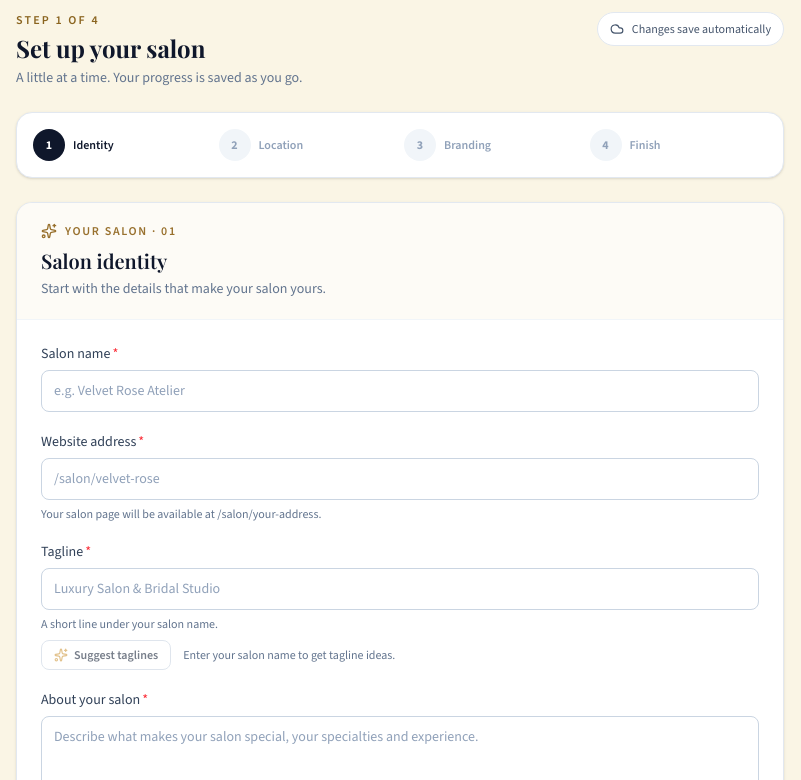
Test: salon onboarding wizard › requests tagline ideas using the live salon name and applies a selected option
Expected: the heading "Salon identity" is shown, [41,247,167,274]
In the field labelled "Salon name": (400, 391) [41,370,759,412], type "Bright Jaipur"
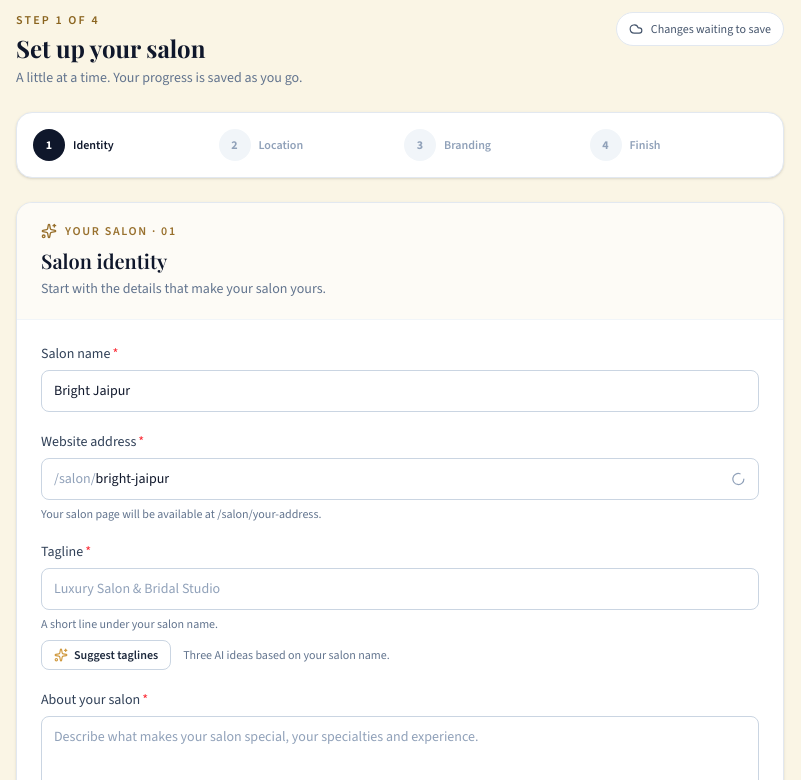
Click the button "Suggest taglines": (106, 655) [41,640,171,670]
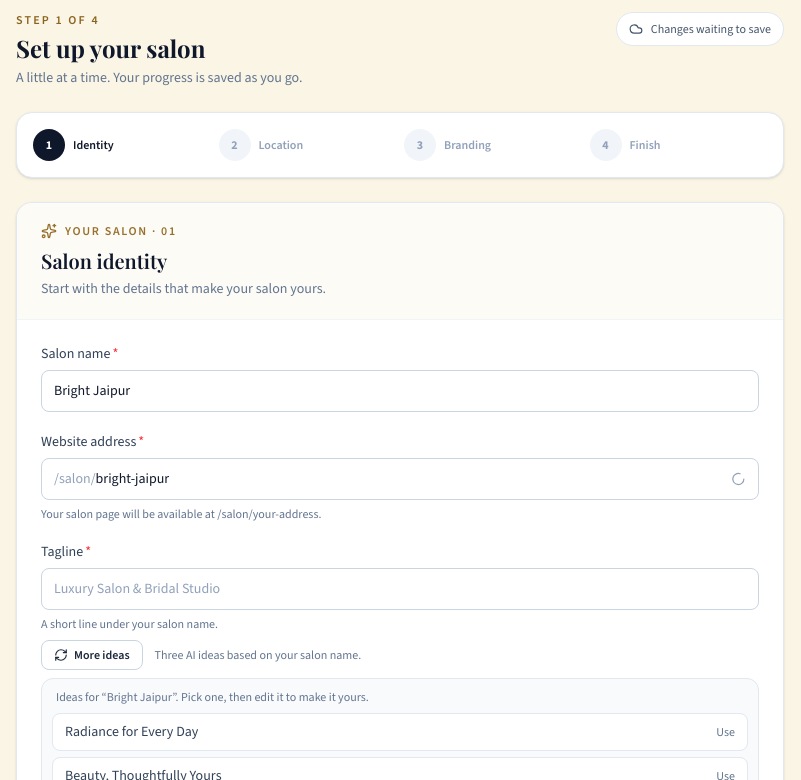
Click the button "Radiance for Every Day Use": (132, 732) [52,713,748,751]
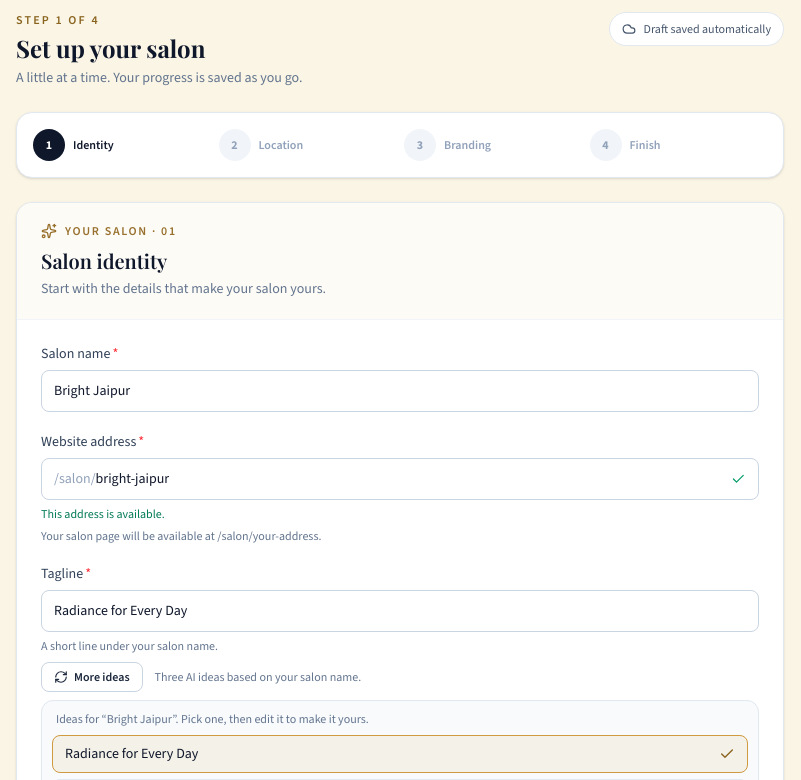
Expected: the field with id "tagline" holds "Radiance for Every Day", [41,590,759,632]
